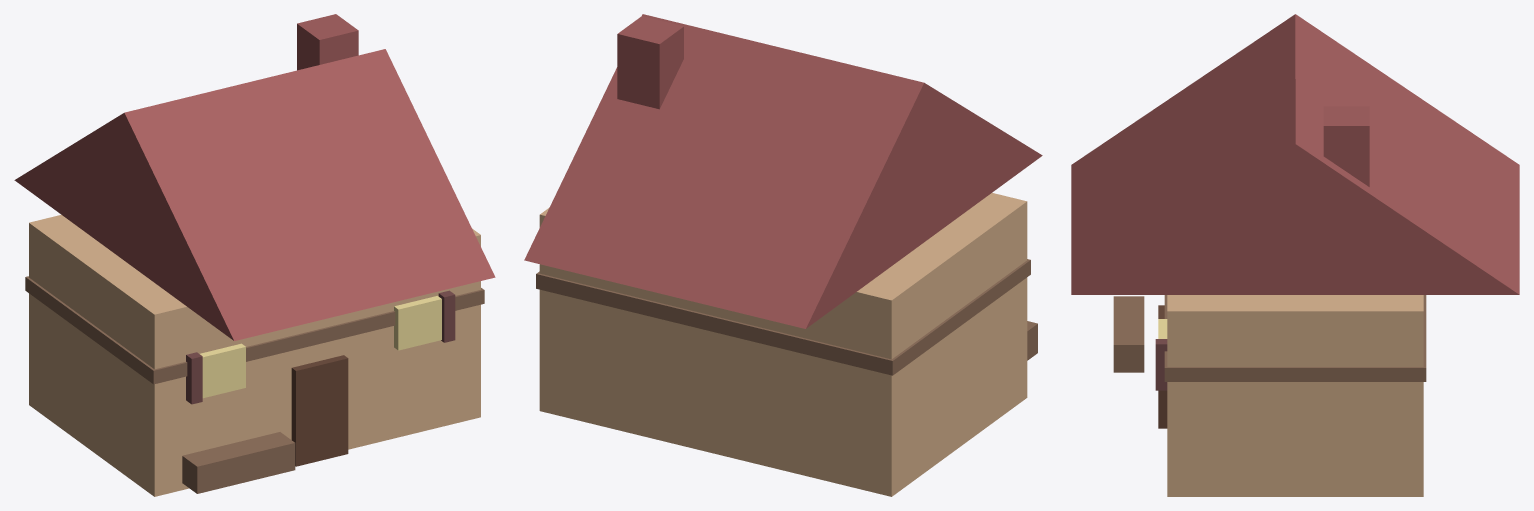
Rendered from house.glb.
3 views of the same model, side by side, from view 1: azimuth 30°, elevation 25°; view 2: azimuth 150°, elevation 25°; view 3: azimuth 270°, elevation 25° (orthographic). The views are drawn at different scales.
Parts seen in each view (by area): view 1: roof, walls, door, detail_beam, detail_bench, chimney, detail_window1, detail_window-1, detail_shutter-1, detail_shutter1; view 2: roof, walls, detail_beam, chimney; view 3: roof, walls, detail_beam, chimney, detail_bench, detail_shutter1.
Part boxes in pixels (<box>): roof: <box>14,49,495,340</box>; walls: <box>29,214,480,496</box>; door: <box>291,355,348,466</box>; detail_beam: <box>25,276,484,384</box>; detail_bench: <box>182,432,295,493</box>; chimney: <box>297,14,358,70</box>; detail_window1: <box>394,296,441,350</box>; detail_window-1: <box>200,343,245,398</box>; detail_shutter-1: <box>186,352,202,404</box>; detail_shutter1: <box>438,290,455,342</box>; roof: <box>524,14,1042,328</box>; walls: <box>539,193,1027,496</box>; detail_beam: <box>536,259,1030,375</box>; chimney: <box>617,16,683,109</box>; roof: <box>1071,14,1519,294</box>; walls: <box>1167,295,1423,496</box>; detail_beam: <box>1164,295,1426,381</box>; chimney: <box>1323,106,1369,186</box>; detail_bench: <box>1113,296,1144,372</box>; detail_shutter1: <box>1155,339,1167,390</box>.
Size of the model in its own units: 1.52 by 1.5 by 1.75.
